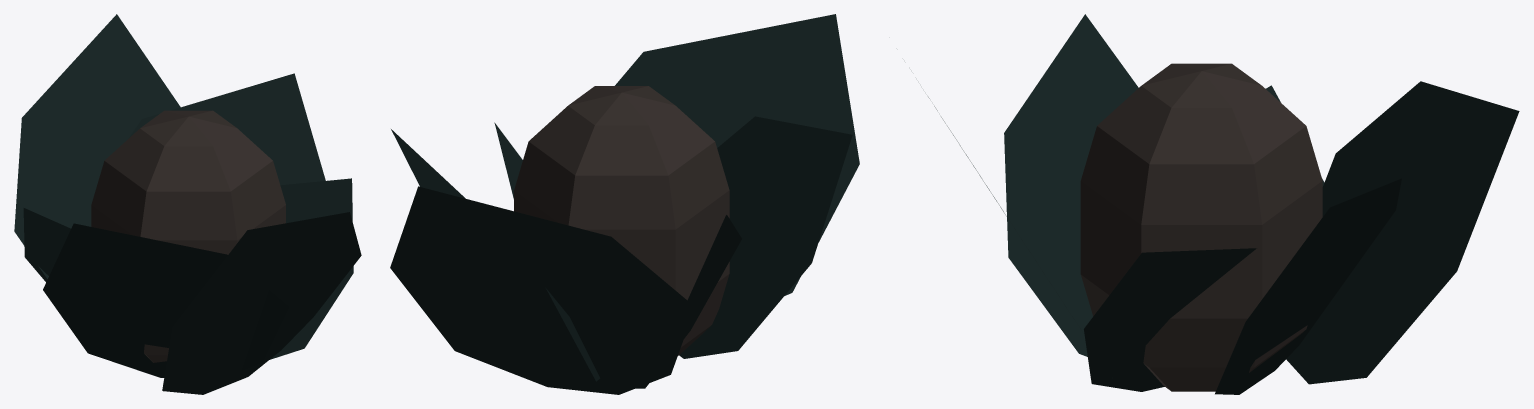
File: MM_Plant_B_Bad.fbx
The picture shows the model from 3 angles, left to right: view 1: azimuth 30°, elevation 25°; view 2: azimuth 150°, elevation 25°; view 3: azimuth 270°, elevation 25°; orthographic projection. The views are drawn at different scales.
Parts seen in each view (by area): view 1: Plane.024, Plane.005, Plane.025, Plane.029, Plane.027, Plane.028, Plane.026; view 2: Plane.029, Plane.024, Plane.025, Plane.005, Plane.026, Plane.027, Plane.028; view 3: Plane.024, Plane.029, Plane.025, Plane.027, Plane.028.
Part boxes in pixels (box(x1,y1,x2,y2)): Plane.024: box(91, 110, 285, 362); Plane.005: box(162, 212, 361, 394); Plane.025: box(43, 223, 289, 377); Plane.029: box(14, 14, 180, 278); Plane.027: box(128, 73, 325, 185); Plane.028: box(270, 178, 353, 359); Plane.026: box(23, 208, 70, 282); Plane.029: box(390, 186, 695, 394); Plane.024: box(514, 86, 729, 355); Plane.025: box(679, 116, 852, 358); Plane.005: box(615, 14, 859, 295); Plane.026: box(636, 215, 741, 388); Plane.027: box(391, 129, 599, 381); Plane.028: box(494, 122, 522, 198); Plane.024: box(1080, 63, 1322, 391); Plane.029: box(1286, 81, 1519, 384); Plane.025: box(1004, 14, 1138, 356); Plane.027: box(1215, 178, 1401, 394); Plane.028: box(1084, 248, 1256, 391).
Size of the model in its own units: 19.35 by 14.59 by 26.67.
